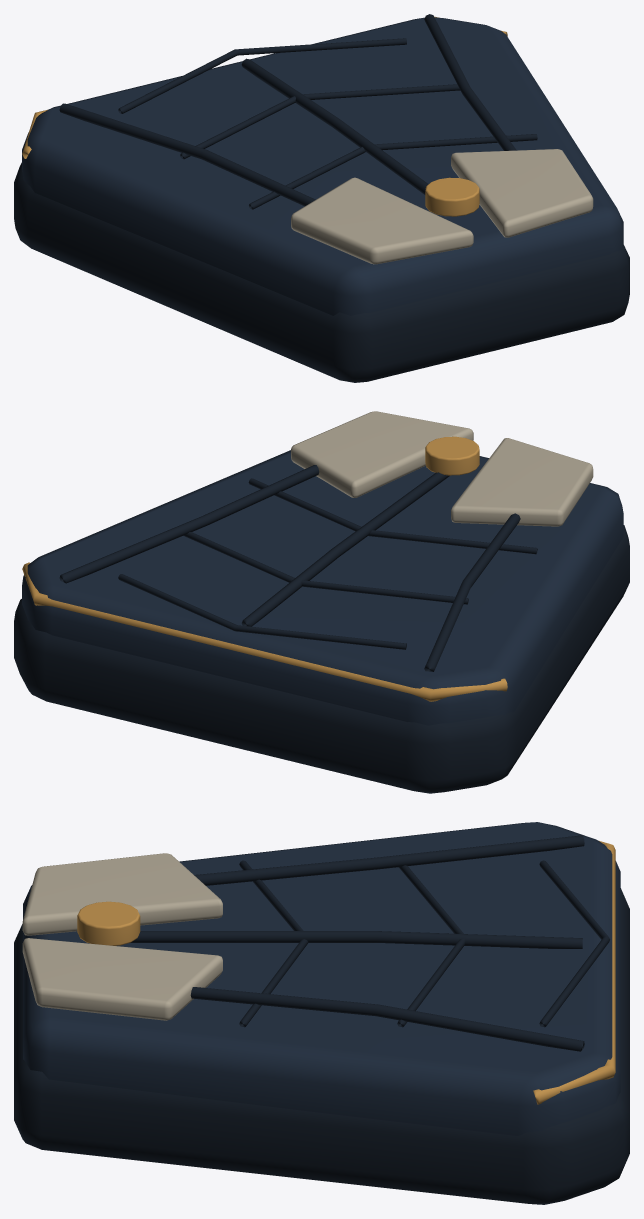
File: quilted_cape.glb
3 renders of one model, top to bottom at view 1: azimuth 30°, elevation 25°; view 2: azimuth 150°, elevation 25°; view 3: azimuth 270°, elevation 25°, orthographic. The views are drawn at different scales.
Visible parts, largest first — view 1: SM_quilted_cape; view 2: SM_quilted_cape; view 3: SM_quilted_cape.
Boxes of the visible parts, x1=… form: SM_quilted_cape: x1=14, y1=14, x2=629, y2=382; SM_quilted_cape: x1=14, y1=411, x2=629, y2=793; SM_quilted_cape: x1=14, y1=822, x2=629, y2=1204.
Size of the model in its own units: 0.4123 by 0.1145 by 0.39.
